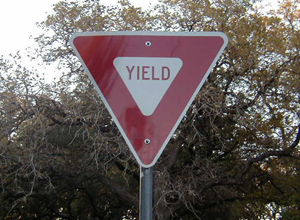yield_sign: (68, 31, 226, 167)
